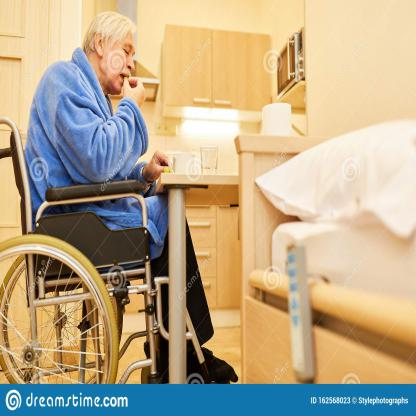wheelchair: (0, 8, 239, 385)
